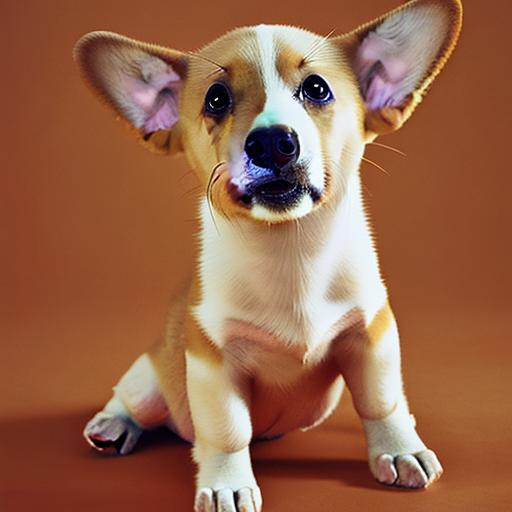eye: (198, 80, 242, 122), (297, 69, 337, 107)
